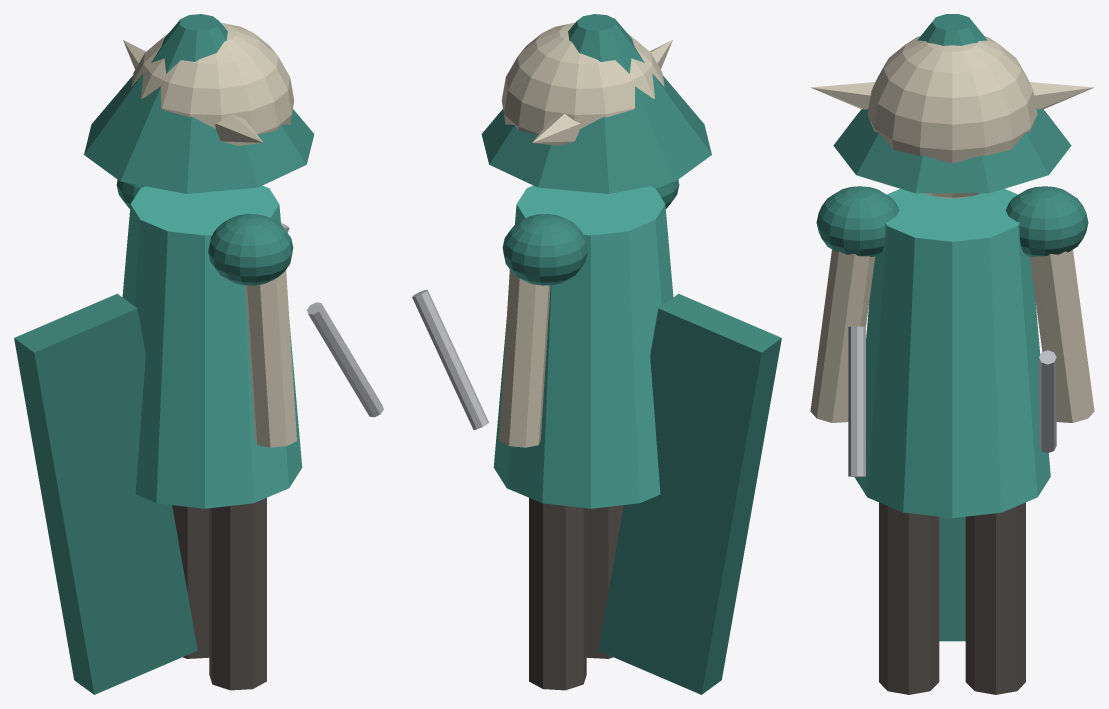
Rendered from hero_yllien_0.glb.
3 views of the same model, side by side, from view 1: azimuth 30°, elevation 25°; view 2: azimuth 150°, elevation 25°; view 3: azimuth 270°, elevation 25° (orthographic).
Visible parts, largest first — view 1: figurka; view 2: figurka; view 3: figurka.
Part boxes in pixels (bbox=[...]): figurka: bbox=[14, 14, 383, 694]; figurka: bbox=[412, 14, 781, 694]; figurka: bbox=[810, 14, 1094, 694].
Size of the model in its own units: 0.5344 by 1.06 by 0.4183.
